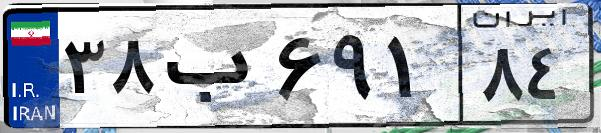1: (385, 28, 445, 110)
3: (57, 26, 110, 100)
4: (525, 38, 570, 115)
6: (270, 28, 330, 110)
8: (475, 38, 525, 113), (110, 28, 158, 98)
9: (330, 28, 385, 110)
ب: (158, 20, 270, 120)
